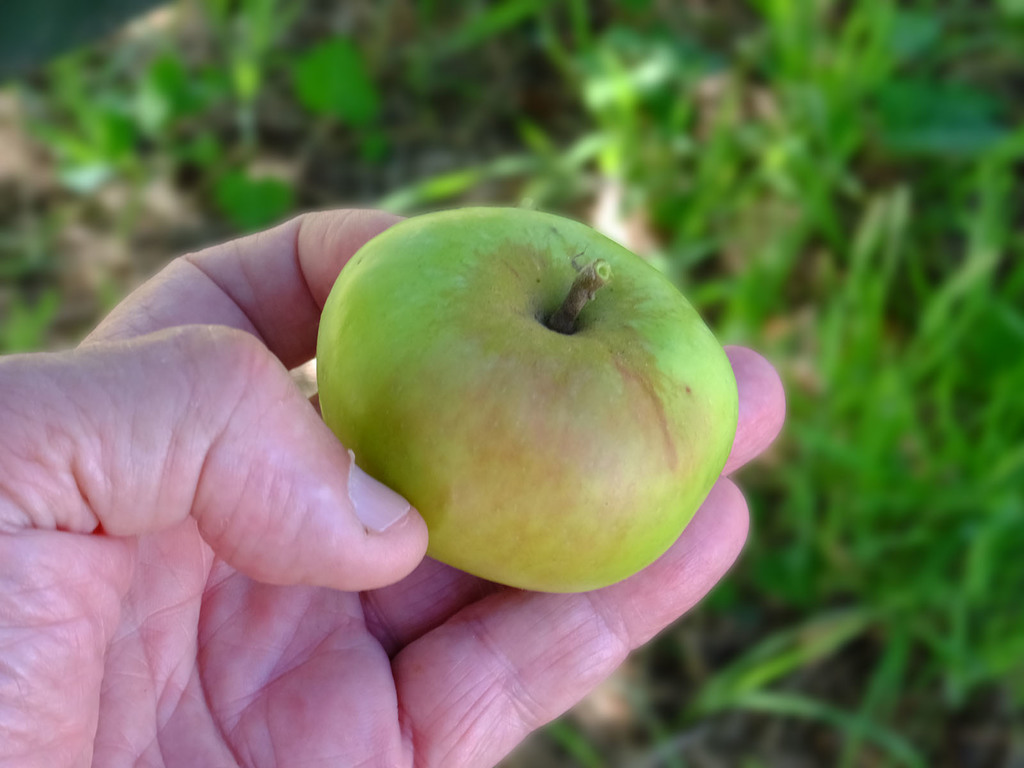Apple: (303, 207, 769, 597)
